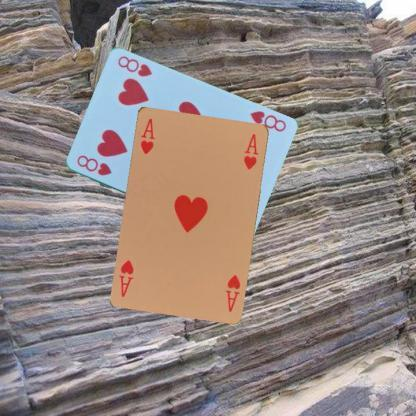8h: (247, 108, 287, 134), (74, 152, 113, 178)
Ah: (223, 272, 242, 314), (138, 115, 156, 156)
